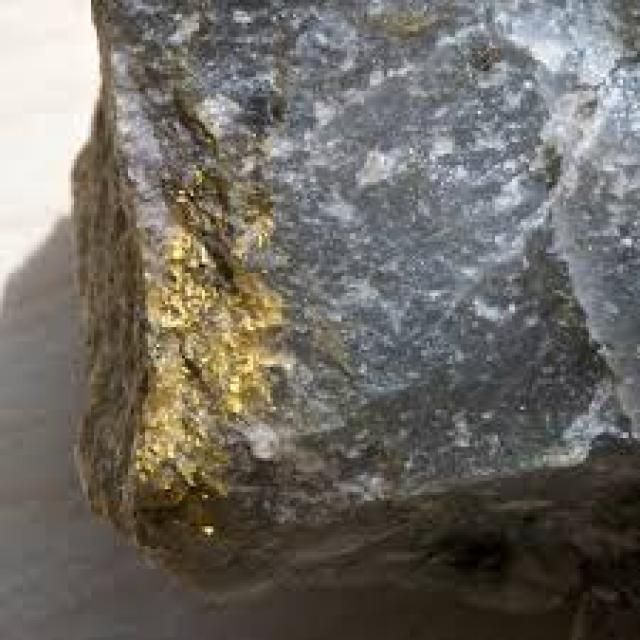Metamorphic: (77, 3, 640, 577)
